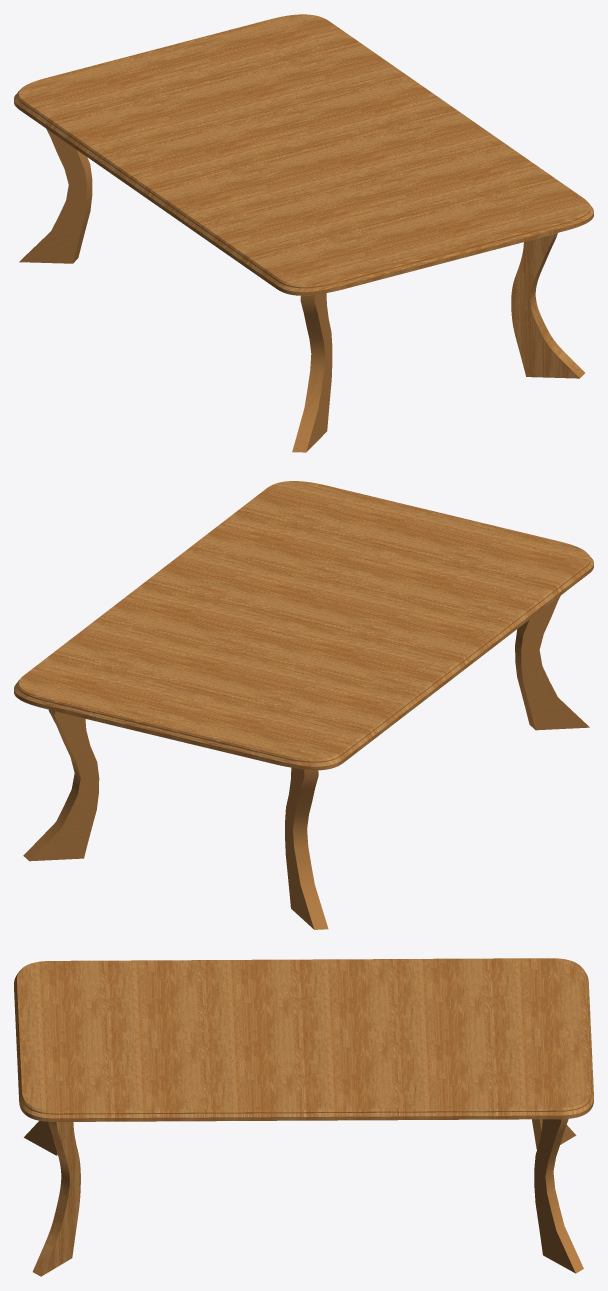
File: table.FBX
The picture shows the model from 3 angles, top to bottom: view 1: azimuth 30°, elevation 25°; view 2: azimuth 150°, elevation 25°; view 3: azimuth 270°, elevation 25°; orthographic projection.
Visible parts, largest first — view 1: Table, Box001, Box004, Box002; view 2: Table, Box003, Box004, Box002; view 3: Table, Box003, Box001, Box002.
Boxes of the visible parts, x1=… form: Table: x1=14, y1=14, x2=593, y2=295; Box001: x1=511, y1=233, x2=584, y2=378; Box004: x1=19, y1=129, x2=92, y2=263; Box002: x1=292, y1=293, x2=332, y2=452; Table: x1=14, y1=481, x2=593, y2=770; Box003: x1=23, y1=709, x2=99, y2=861; Box004: x1=285, y1=767, x2=328, y2=929; Box002: x1=515, y1=596, x2=589, y2=730; Table: x1=14, y1=958, x2=593, y2=1121; Box003: x1=534, y1=1119, x2=583, y2=1273; Box001: x1=32, y1=1122, x2=80, y2=1276; Box002: x1=24, y1=1121, x2=57, y2=1155.
Bounding box in the file's own units: 58.78 × 29.87 × 90.25.
1 material, 1 textured.
